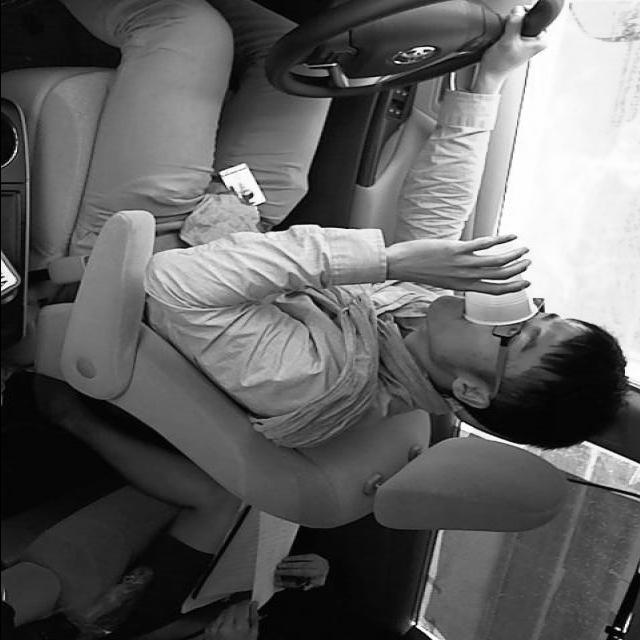drinking: (458, 236, 542, 326)
